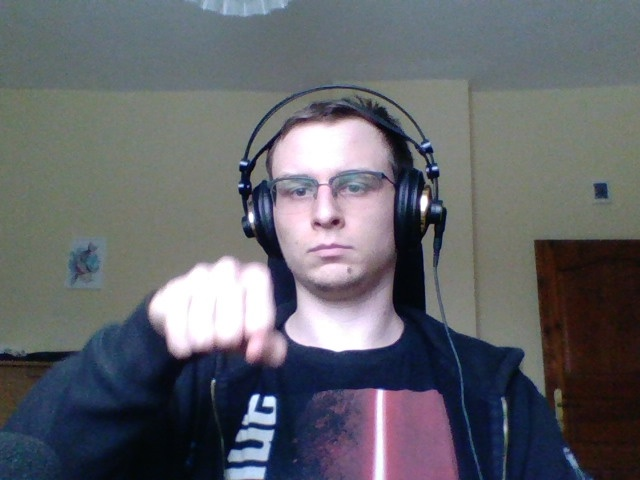yes: (137, 258, 290, 375)
